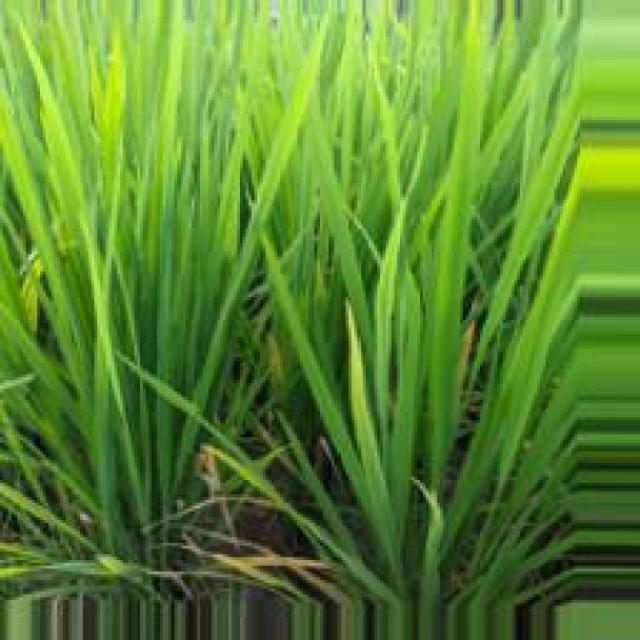HealthyLeaf: (16, 18, 137, 484)
